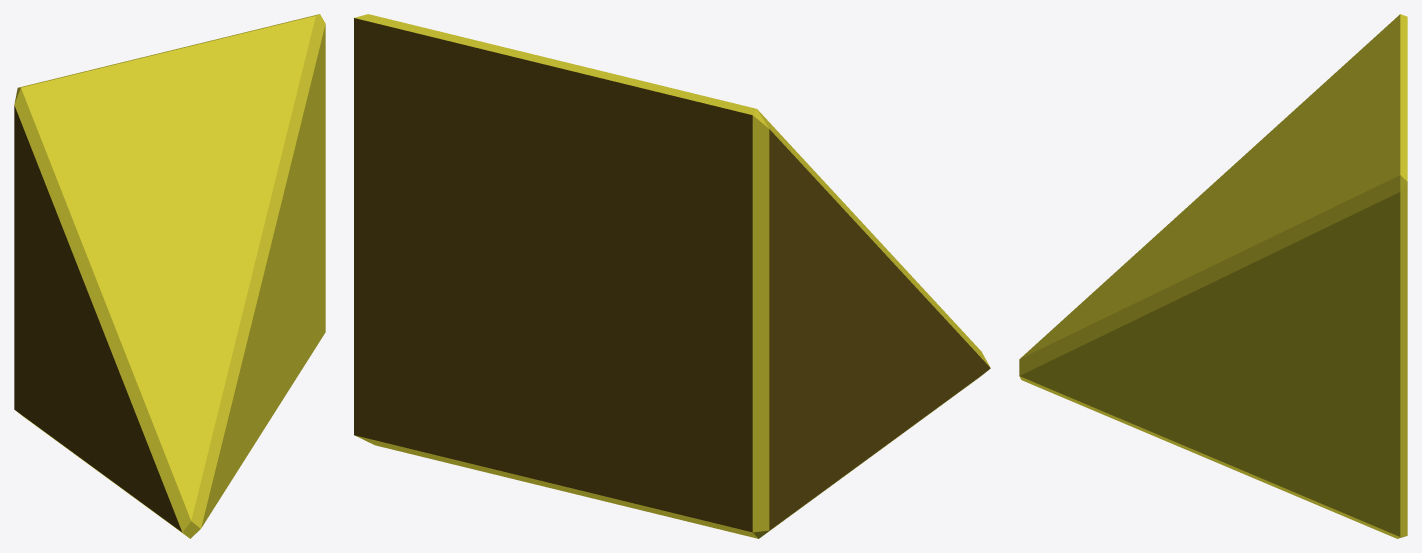
Rendered from piramid.fbx.
3 renders of one model, left to right at view 1: azimuth 30°, elevation 25°; view 2: azimuth 150°, elevation 25°; view 3: azimuth 270°, elevation 25°, orthographic. The views are drawn at different scales.
Visible parts, largest first — view 1: Cube; view 2: Cube; view 3: Cube.
Part boxes in pixels (bbox=[...]): Cube: bbox=[14, 14, 325, 538]; Cube: bbox=[354, 14, 990, 538]; Cube: bbox=[1019, 14, 1407, 538].
Size of the model in its own units: 1.96 by 1.96 by 1.89.
